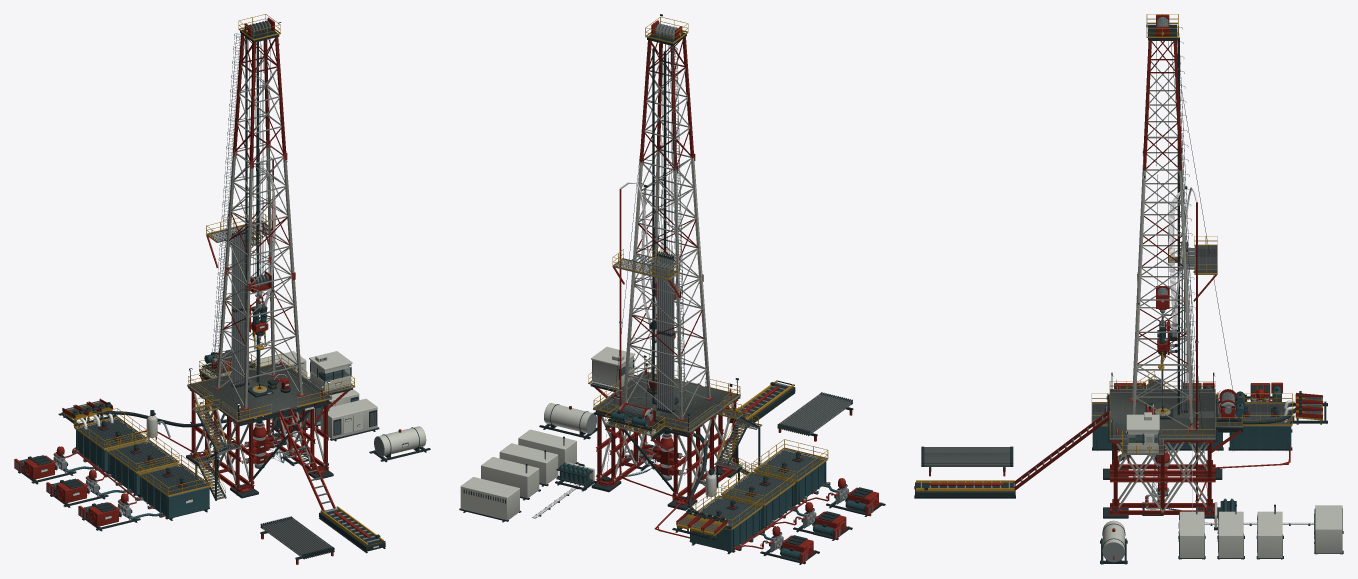
The model's file is land_1500_ac_double_detailed_lodh.glb.
3 renders of one model, left to right at view 1: azimuth 30°, elevation 25°; view 2: azimuth 150°, elevation 25°; view 3: azimuth 270°, elevation 25°, orthographic. The views are drawn at different scales.
Parts seen in each view (by area): view 1: derrick_ivory, substructure_oxide, drill_floor_deck, derrick_oxide, tank_3_blue, setback_pipe_steel, drill_line_dark, tank_2_blue, ladder_steel, tank_1_blue, generator_3_ivory, pipe_rack_steel (+18 smaller); view 2: derrick_ivory, substructure_oxide, derrick_oxide, drill_floor_deck, setback_pipe_steel, vfd_house_ivory, ladder_steel, tank_1_blue, top_drive_guide_dark, tank_3_blue, tank_2_blue, generator_1_ivory (+23 smaller); view 3: derrick_ivory, substructure_oxide, drill_floor_deck, derrick_oxide, pipe_rack_steel, substructure_ivory, vfd_house_ivory, tank_1_blue, drill_floor_steel, generator_2_ivory, generator_1_ivory, generator_3_ivory (+14 smaller).
Part boxes in pixels (x1,y1,x2,y2): derrick_ivory: [216, 58, 302, 408]; substructure_oxide: [189, 374, 349, 492]; drill_floor_deck: [187, 364, 331, 422]; derrick_oxide: [214, 33, 305, 410]; tank_3_blue: [136, 466, 209, 518]; setback_pipe_steel: [231, 230, 248, 388]; drill_line_dark: [214, 30, 276, 434]; tank_2_blue: [104, 442, 177, 494]; ladder_steel: [210, 33, 241, 388]; tank_1_blue: [72, 419, 144, 471]; generator_3_ivory: [320, 398, 377, 438]; pipe_rack_steel: [262, 517, 332, 557]; derrick_ivory: [623, 62, 710, 419]; substructure_oxide: [594, 387, 738, 505]; derrick_oxide: [621, 37, 713, 420]; drill_floor_deck: [593, 373, 740, 433]; setback_pipe_steel: [656, 251, 674, 414]; vfd_house_ivory: [460, 477, 519, 520]; ladder_steel: [670, 46, 686, 421]; tank_1_blue: [690, 499, 764, 551]; top_drive_guide_dark: [652, 48, 666, 403]; tank_3_blue: [756, 451, 830, 503]; tank_2_blue: [723, 475, 797, 527]; generator_1_ivory: [481, 457, 539, 498]; derrick_ivory: [1132, 61, 1193, 429]; substructure_oxide: [1110, 430, 1241, 514]; drill_floor_deck: [1110, 393, 1215, 440]; derrick_oxide: [1129, 40, 1195, 430]; pipe_rack_steel: [924, 447, 1009, 466]; substructure_ivory: [1116, 442, 1209, 512]; vfd_house_ivory: [1314, 505, 1342, 553]; tank_1_blue: [1229, 426, 1291, 450]; drill_floor_steel: [1109, 389, 1242, 454]; generator_2_ivory: [1218, 511, 1243, 558]; generator_1_ivory: [1257, 511, 1282, 558]; generator_3_ivory: [1179, 511, 1204, 558].
Size of the model in its own units: 41.77 by 53.87 by 43.9.
Materials: 13 (11 with a texture image).
